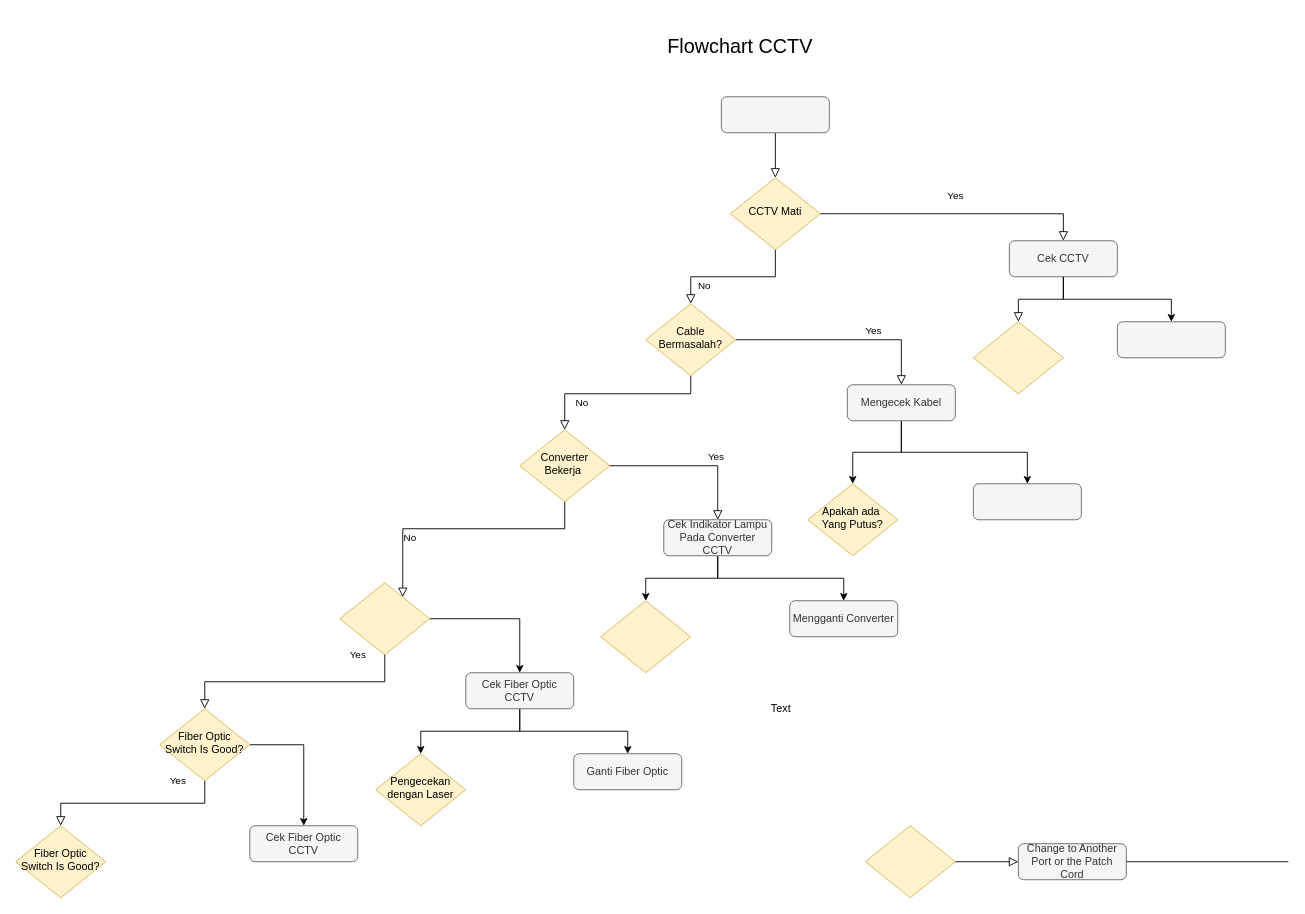
This 1305x914 diagram has some shape labels left out. The shapes that lost their labels are listed below. From the top down, each one's centre as x and y in pixels, then its label:
At (774,114): "Troubleshoot CCTV".
At (1017,357): "Memasukkan Kabel POE".
At (1170,339): "CCTV rusak, Harus Diganti".
At (1026,501): "Mengganti ujung kaberl RJ45".
At (384,618): "Fiber Optic CCTV Is Good?".
At (645,636): "Mengganti Adapter".
At (909,861): "Check the Switch Port".
